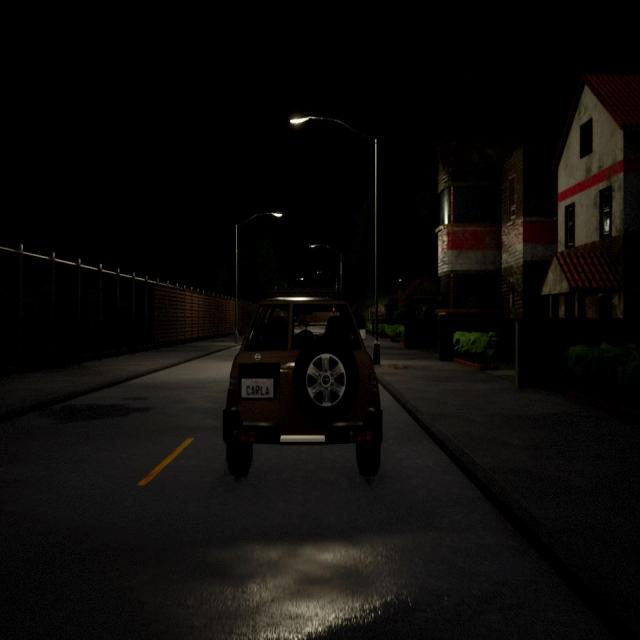Vehicle: (222, 296, 384, 480)
traffic_light: (332, 306, 336, 315)
